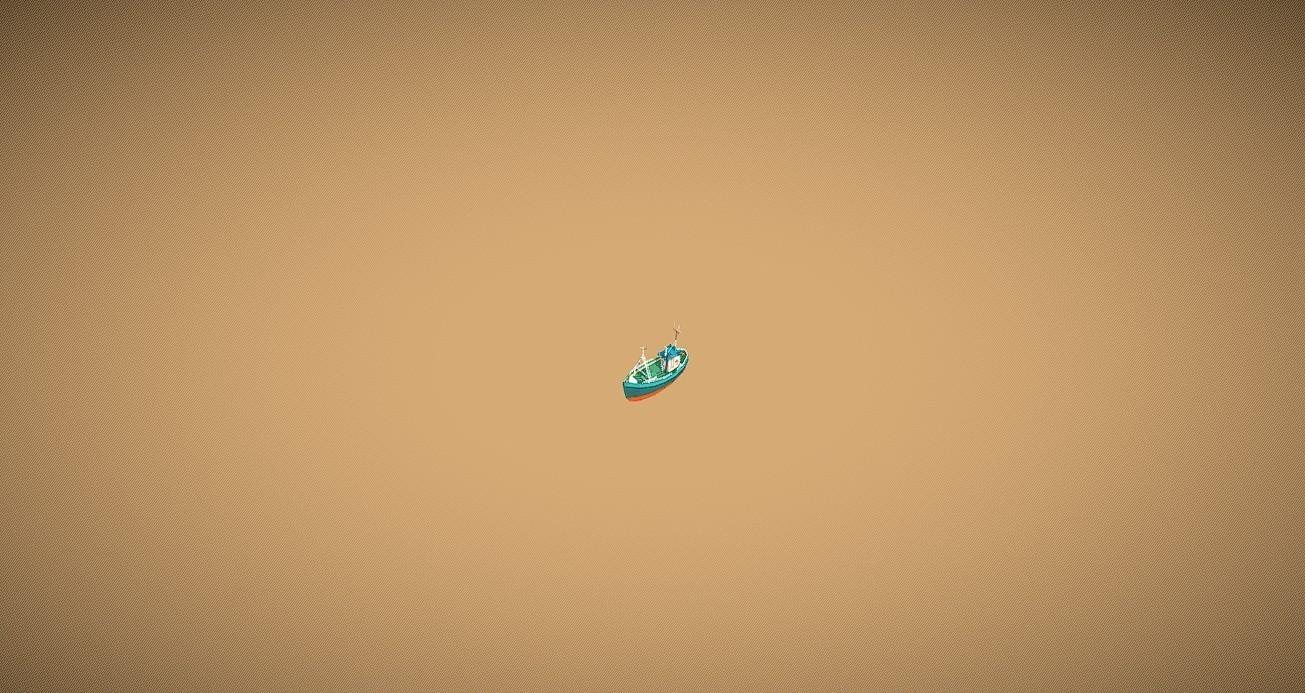Boat: (621, 325, 689, 402)
